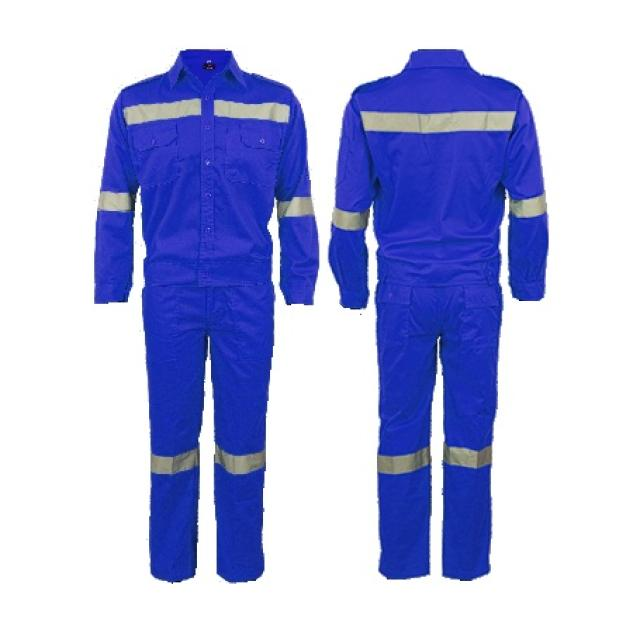vest: (93, 44, 318, 581), (329, 44, 550, 579)
